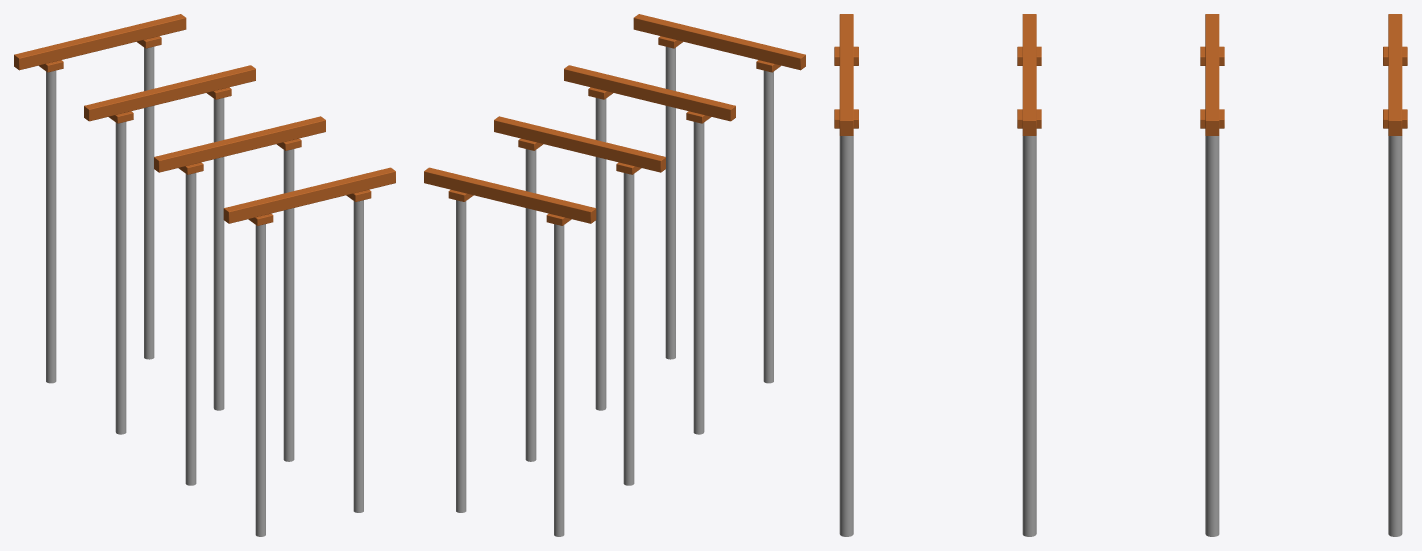
The model's file is stacker_hoist.glb.
3 views of the same model, side by side, from view 1: azimuth 30°, elevation 25°; view 2: azimuth 150°, elevation 25°; view 3: azimuth 270°, elevation 25° (orthographic). The views are drawn at different scales.
Visible parts, largest first — view 1: HoistRods, Hoist; view 2: HoistRods, Hoist; view 3: HoistRods, Hoist.
Part boxes in pixels (x1,y1,x2,y2): HoistRods: [46, 46, 363, 536]; Hoist: [14, 14, 395, 225]; HoistRods: [456, 46, 773, 536]; Hoist: [424, 14, 805, 225]; HoistRods: [839, 136, 1402, 536]; Hoist: [834, 14, 1407, 135].
Size of the model in its own units: 1.45 by 2.76 by 3.29.
